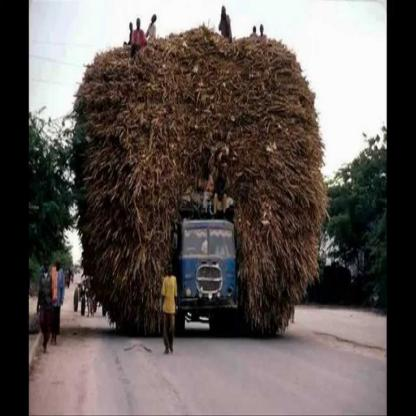overloaded-truck: (72, 38, 324, 330)
